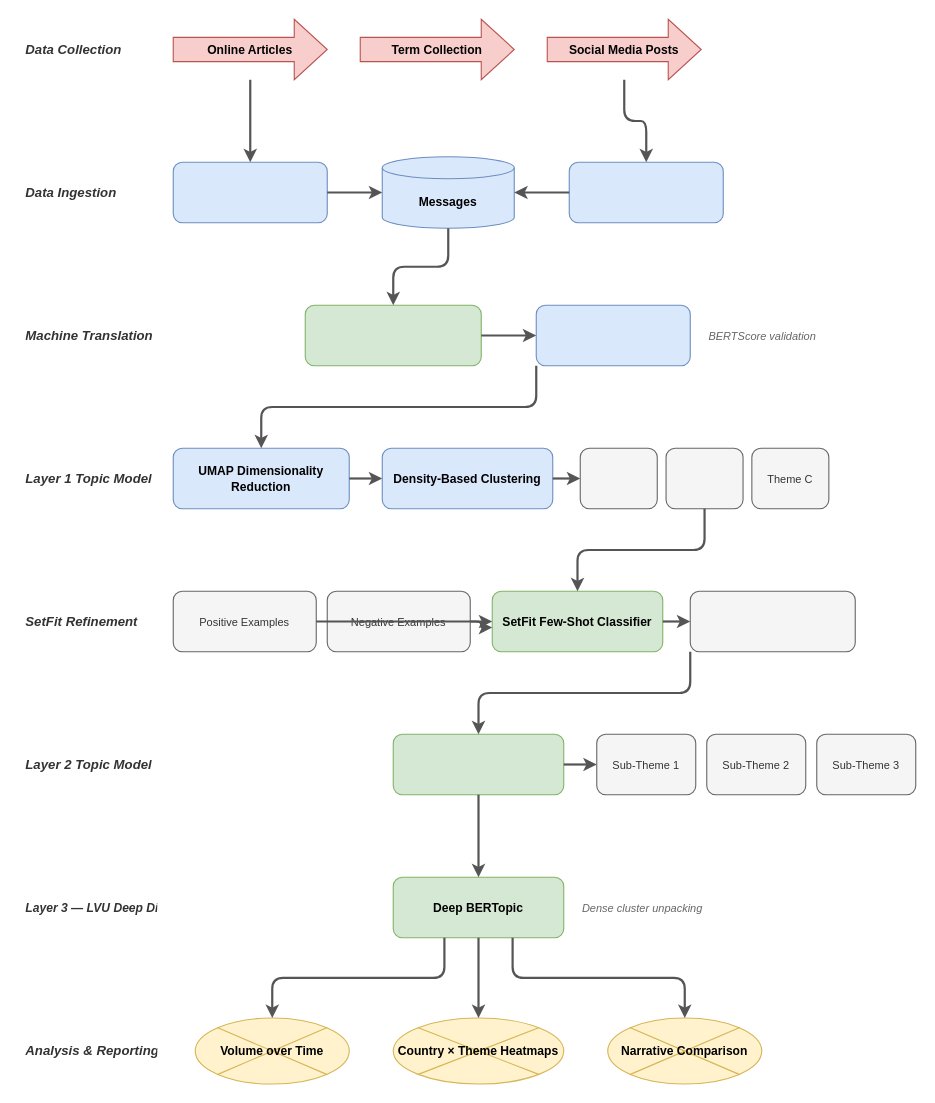
The diagram is 935 pixels wide and 1103 high, and some of its shapes have lost their labels. Each missing label, with the box of its shape:
Coherent Units: (172, 161, 327, 223)
Collect Posts: (568, 161, 723, 223)
mBART / Helsinki-NLP: (304, 304, 481, 366)
Per-Theme BERTopic: (392, 733, 564, 795)
Refined Cluster Boundaries: (689, 590, 855, 652)
Theme A: (579, 447, 657, 509)
Theme B: (665, 447, 743, 509)
Translated Corpus: (535, 304, 690, 366)
